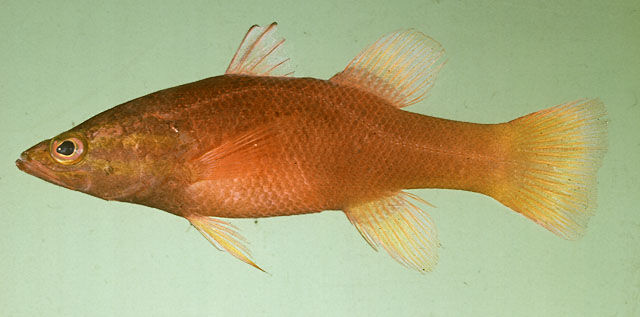fish: (14, 21, 607, 275)
